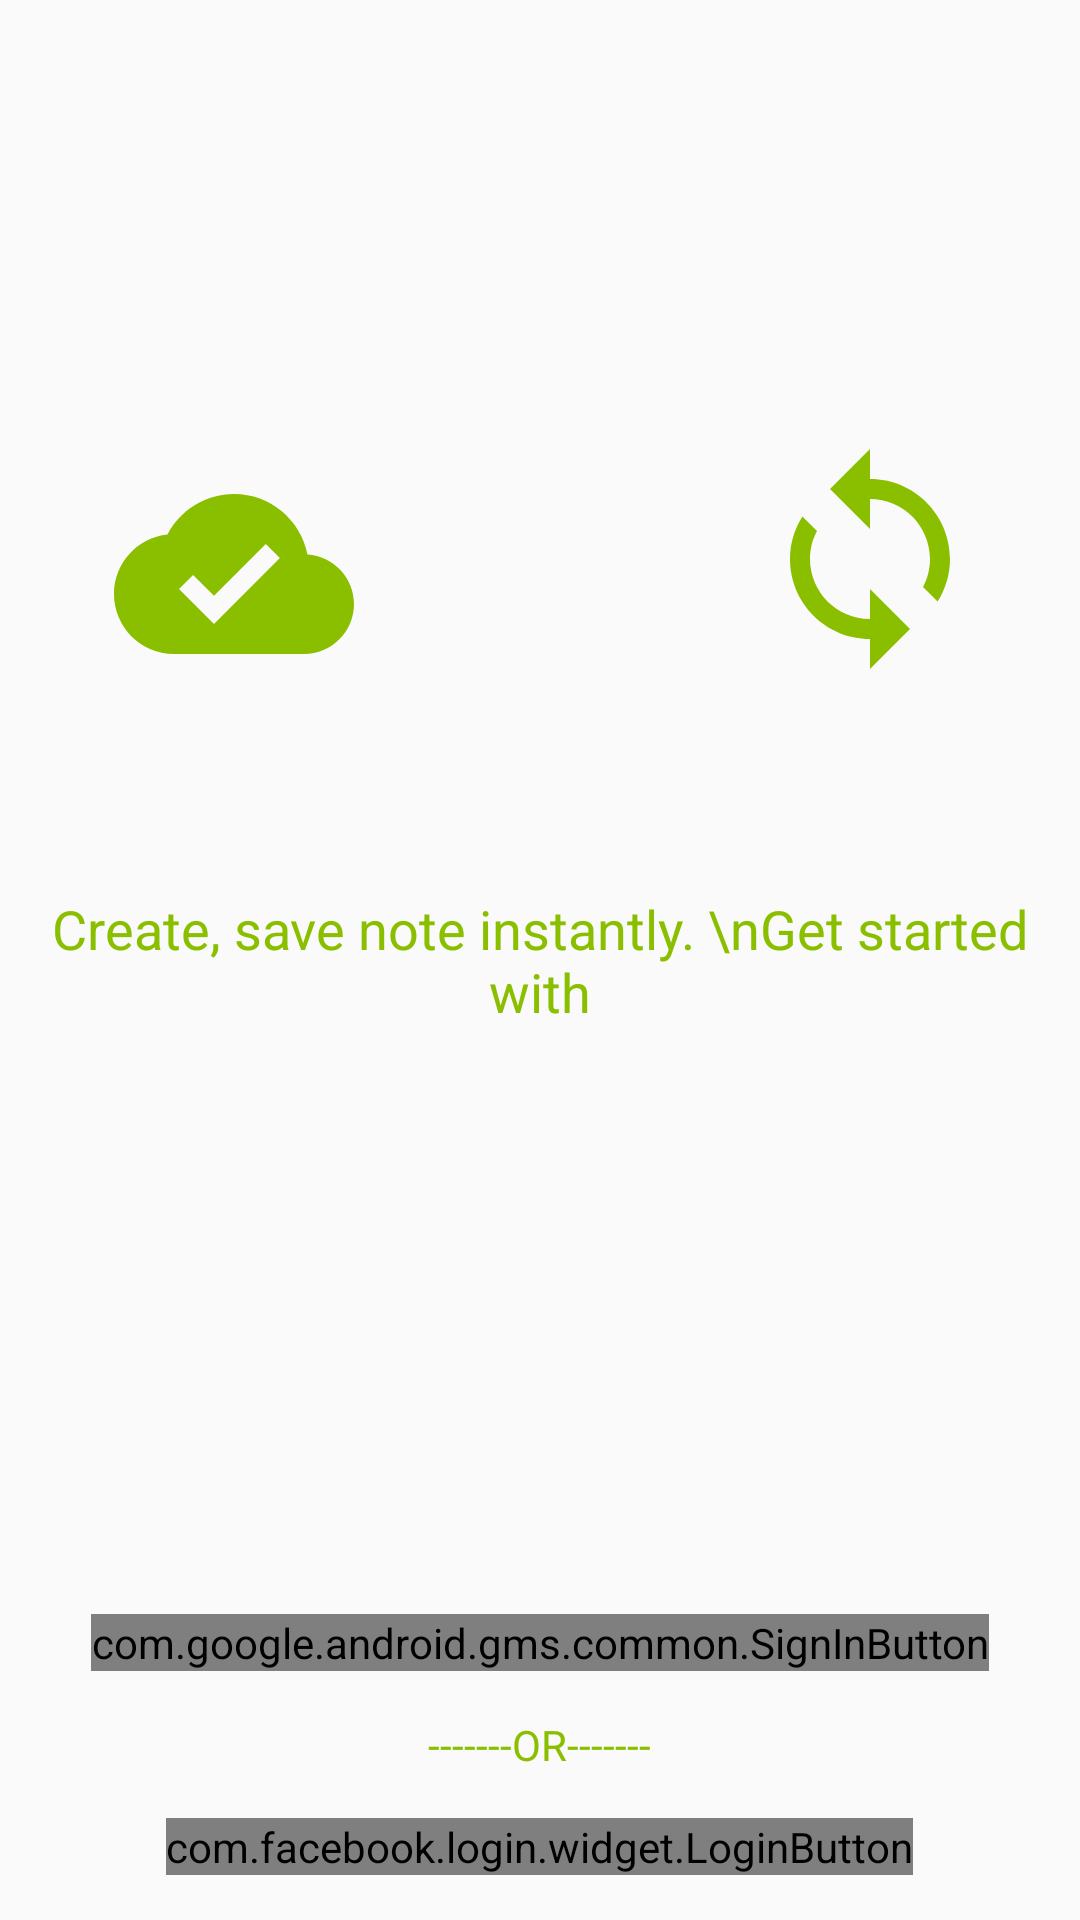

Screen size 1080×1920. Icon name, then its box in pixels as (x1, y1, x2, y2):
cloud done: (114, 494, 354, 654)
sync: (790, 449, 950, 669)
